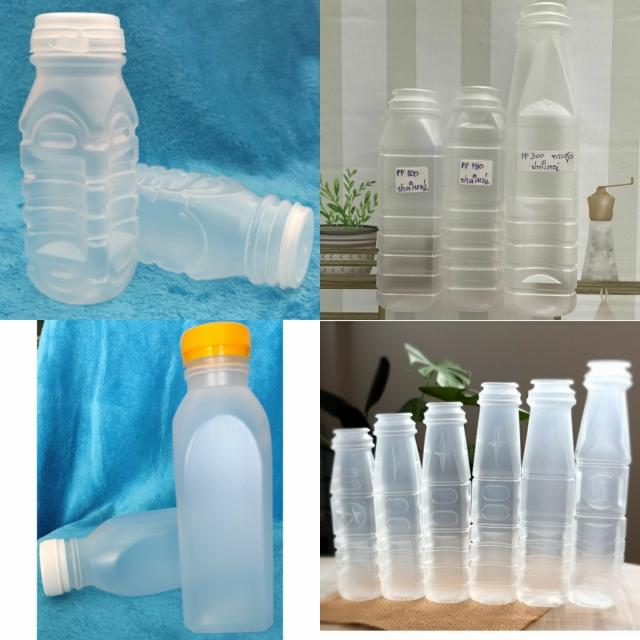Single-Use-Plastic: (19, 12, 139, 305), (172, 322, 274, 633), (504, 2, 578, 317), (139, 166, 314, 288), (570, 360, 632, 608), (376, 89, 441, 312), (441, 86, 504, 312), (518, 379, 576, 606), (40, 508, 181, 596), (469, 382, 521, 603), (374, 412, 424, 601), (424, 402, 470, 602), (330, 428, 381, 601)
